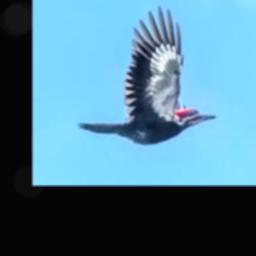Woodpecker: (77, 5, 217, 145)
